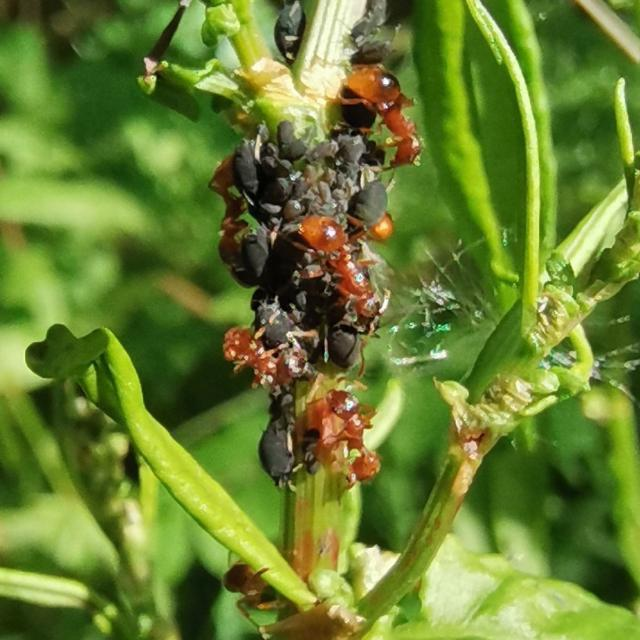Myrmica: (276, 187, 412, 347), (329, 44, 443, 186), (306, 368, 392, 494), (197, 146, 271, 278), (210, 313, 308, 395), (206, 544, 296, 630), (356, 188, 414, 264)
